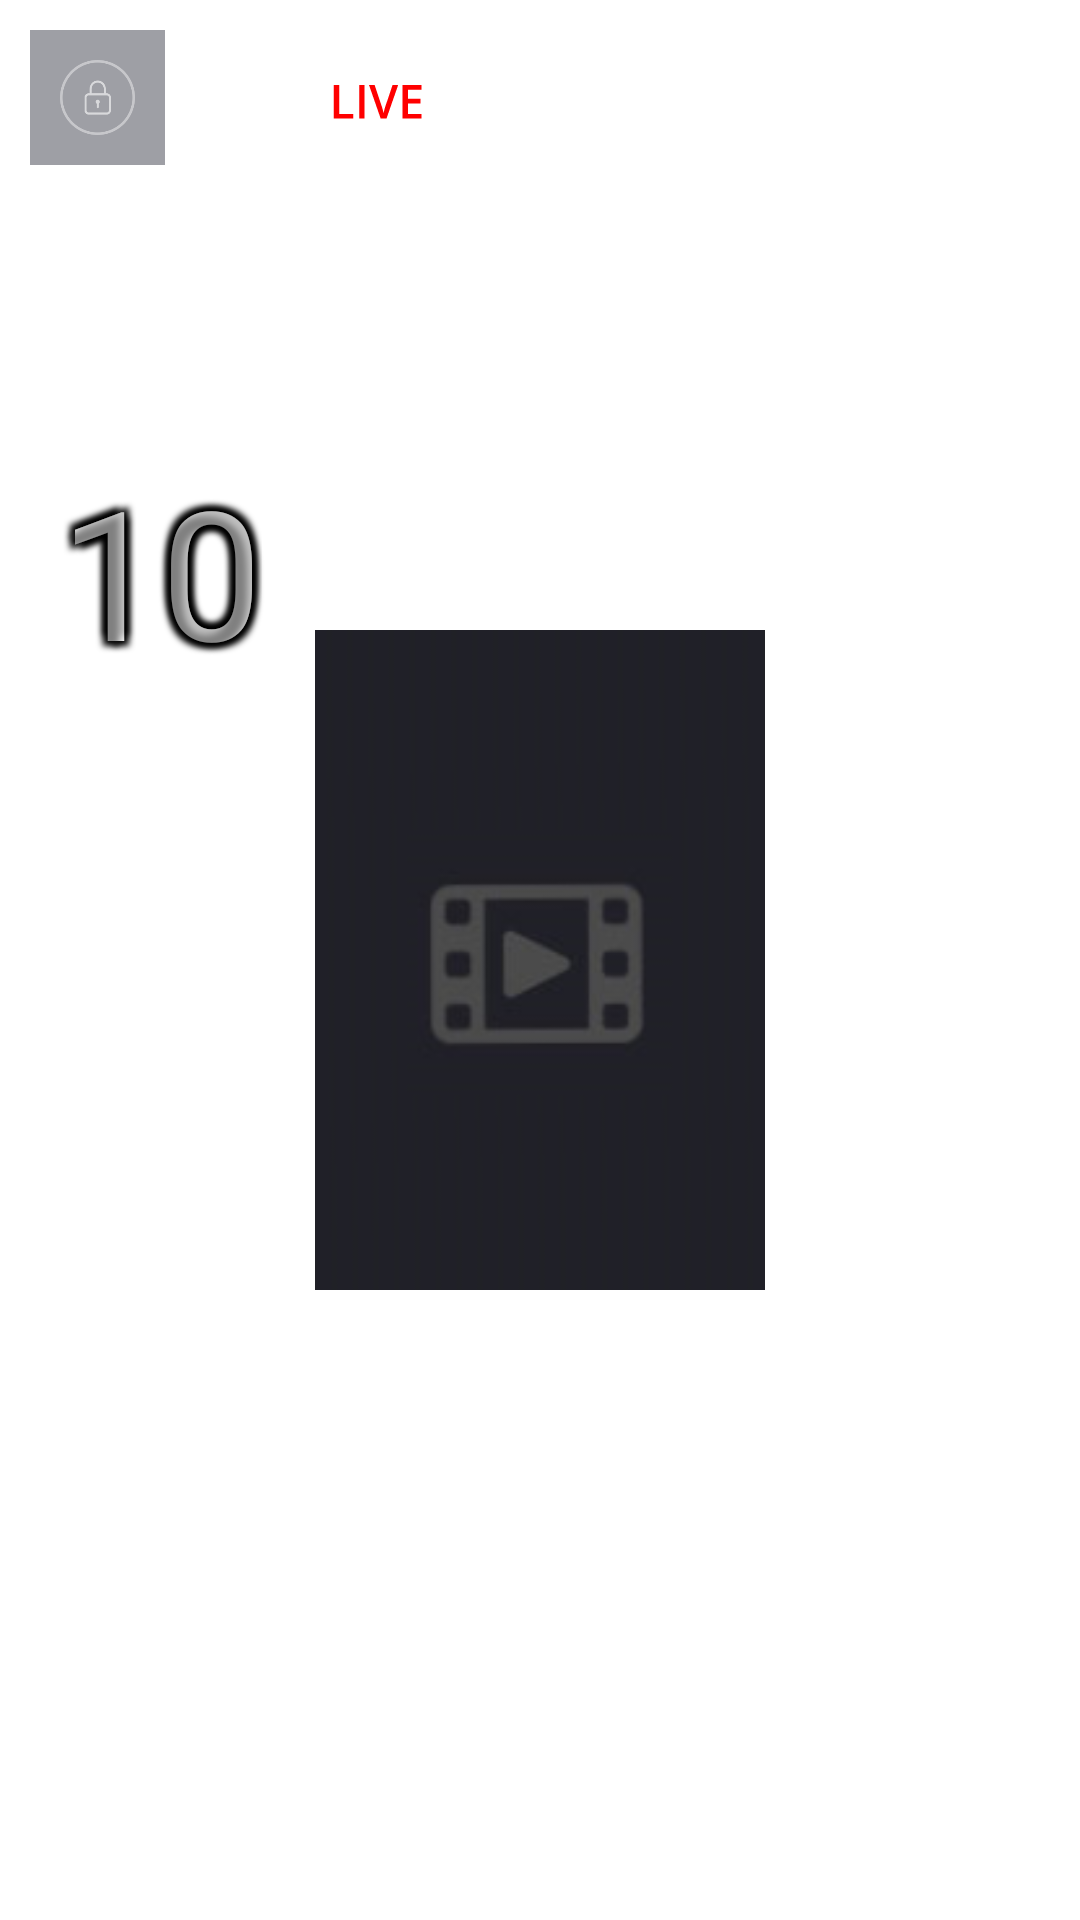

Icons on this 1080×1920 Android screen, each with its box as [left=x1, top=y1, right=x2, bottom=y2]:
locked: [left=30, top=30, right=165, bottom=165]
